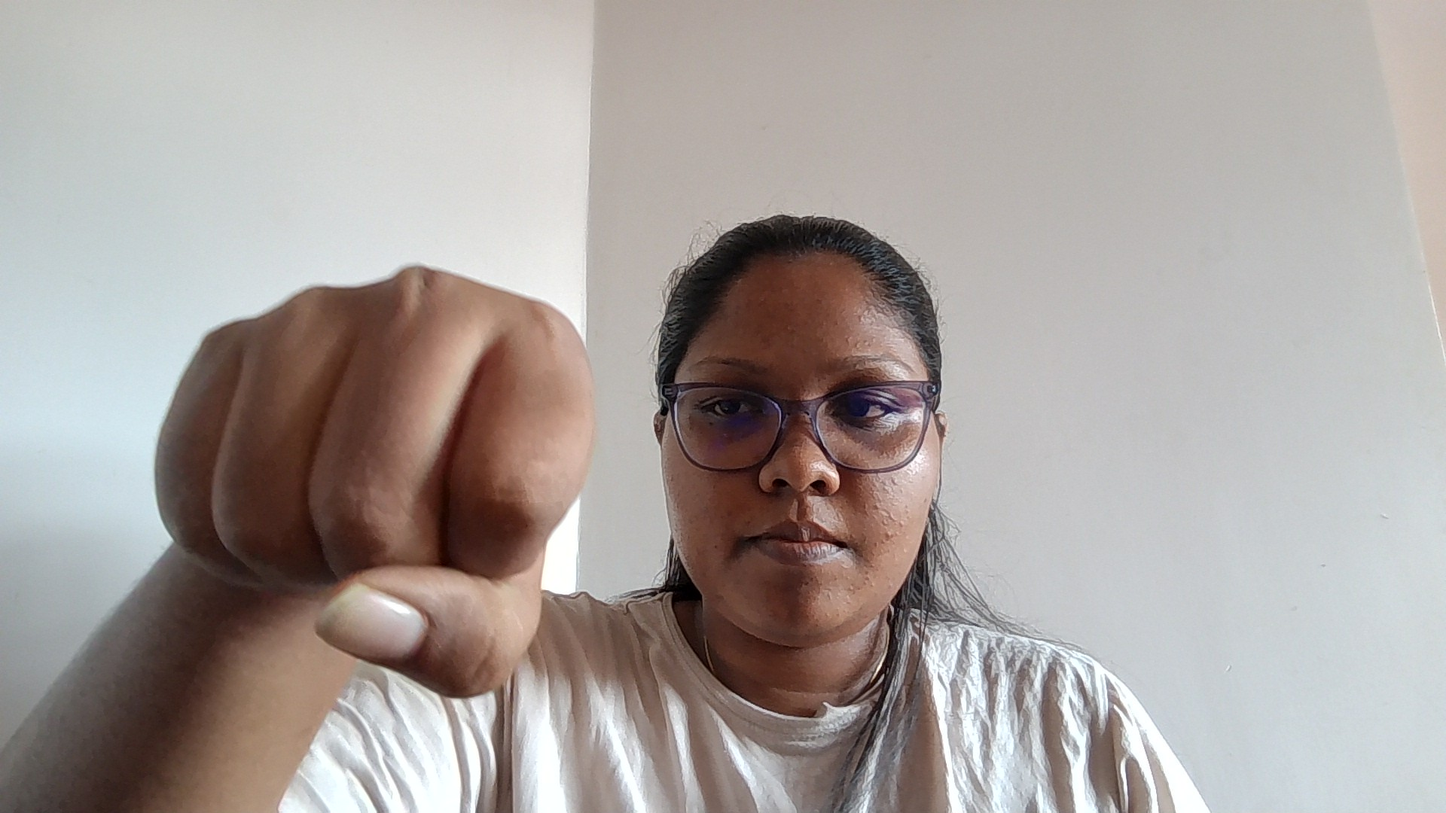Yes: (130, 243, 626, 785)
